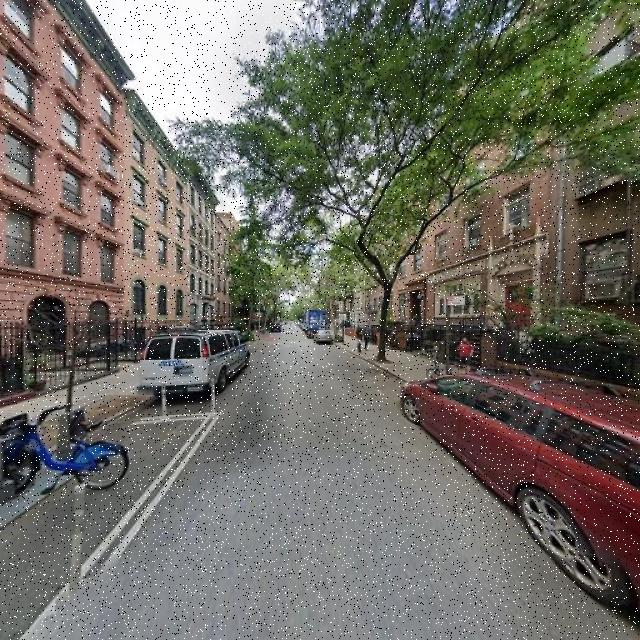Building: (430, 1, 554, 390), (1, 1, 122, 374), (560, 1, 640, 414), (127, 85, 189, 349), (385, 142, 427, 357), (193, 165, 217, 338)
